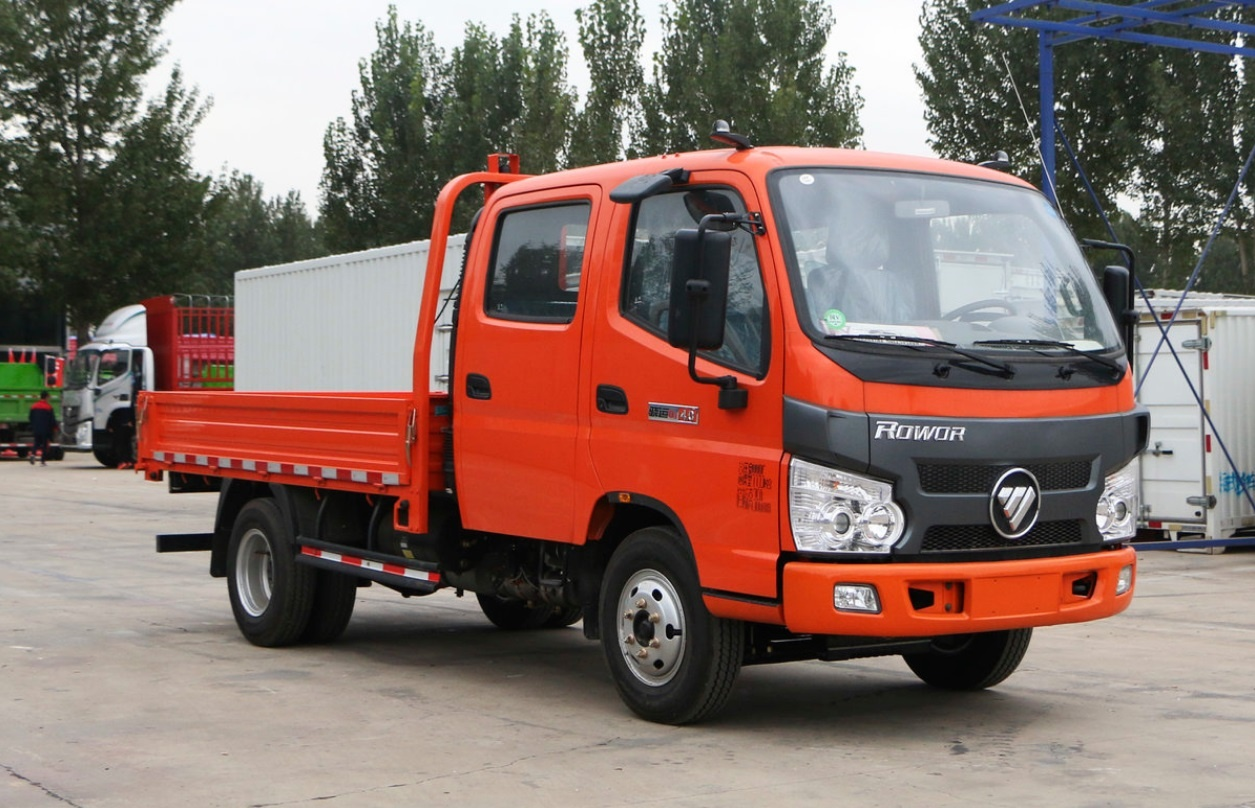heavy truck: (108, 150, 1155, 712)
